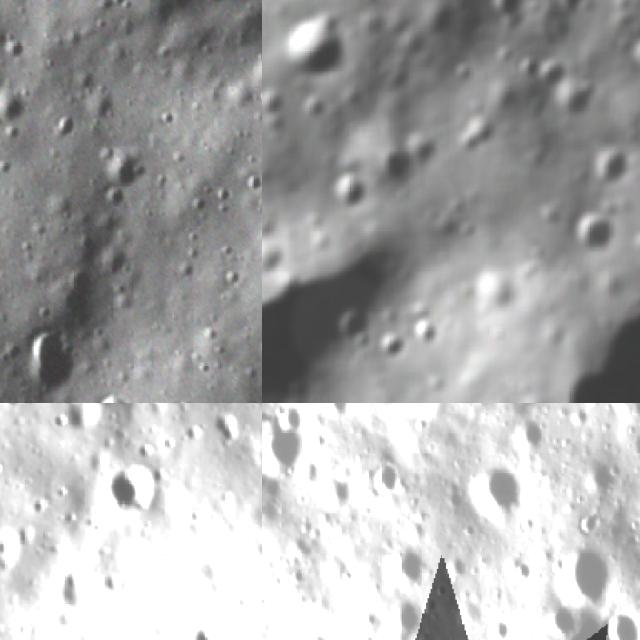crater: (262, 230, 402, 403), (522, 279, 640, 403), (267, 0, 361, 86), (550, 532, 628, 618), (13, 320, 79, 403), (47, 260, 118, 330), (457, 455, 526, 521), (93, 464, 164, 522), (570, 137, 636, 198), (262, 407, 311, 488), (562, 202, 626, 264), (540, 67, 600, 128), (447, 104, 506, 164), (321, 296, 384, 349), (372, 134, 427, 194), (386, 594, 452, 640), (359, 450, 408, 506), (99, 143, 145, 202), (54, 563, 101, 620), (378, 535, 429, 587), (524, 48, 573, 100), (326, 163, 369, 217), (369, 324, 413, 373), (414, 0, 461, 43), (60, 403, 105, 446), (514, 415, 554, 461), (481, 0, 534, 34), (262, 222, 292, 280), (390, 22, 432, 62), (601, 600, 640, 640), (185, 614, 244, 640), (404, 312, 443, 351), (45, 108, 85, 145), (447, 52, 483, 86), (386, 64, 422, 98), (549, 0, 598, 24), (625, 20, 640, 82), (313, 403, 355, 425), (0, 93, 27, 125), (453, 212, 481, 242), (626, 419, 640, 473), (100, 389, 144, 403), (507, 390, 552, 403), (627, 106, 640, 142), (299, 629, 331, 640), (630, 222, 640, 256)
